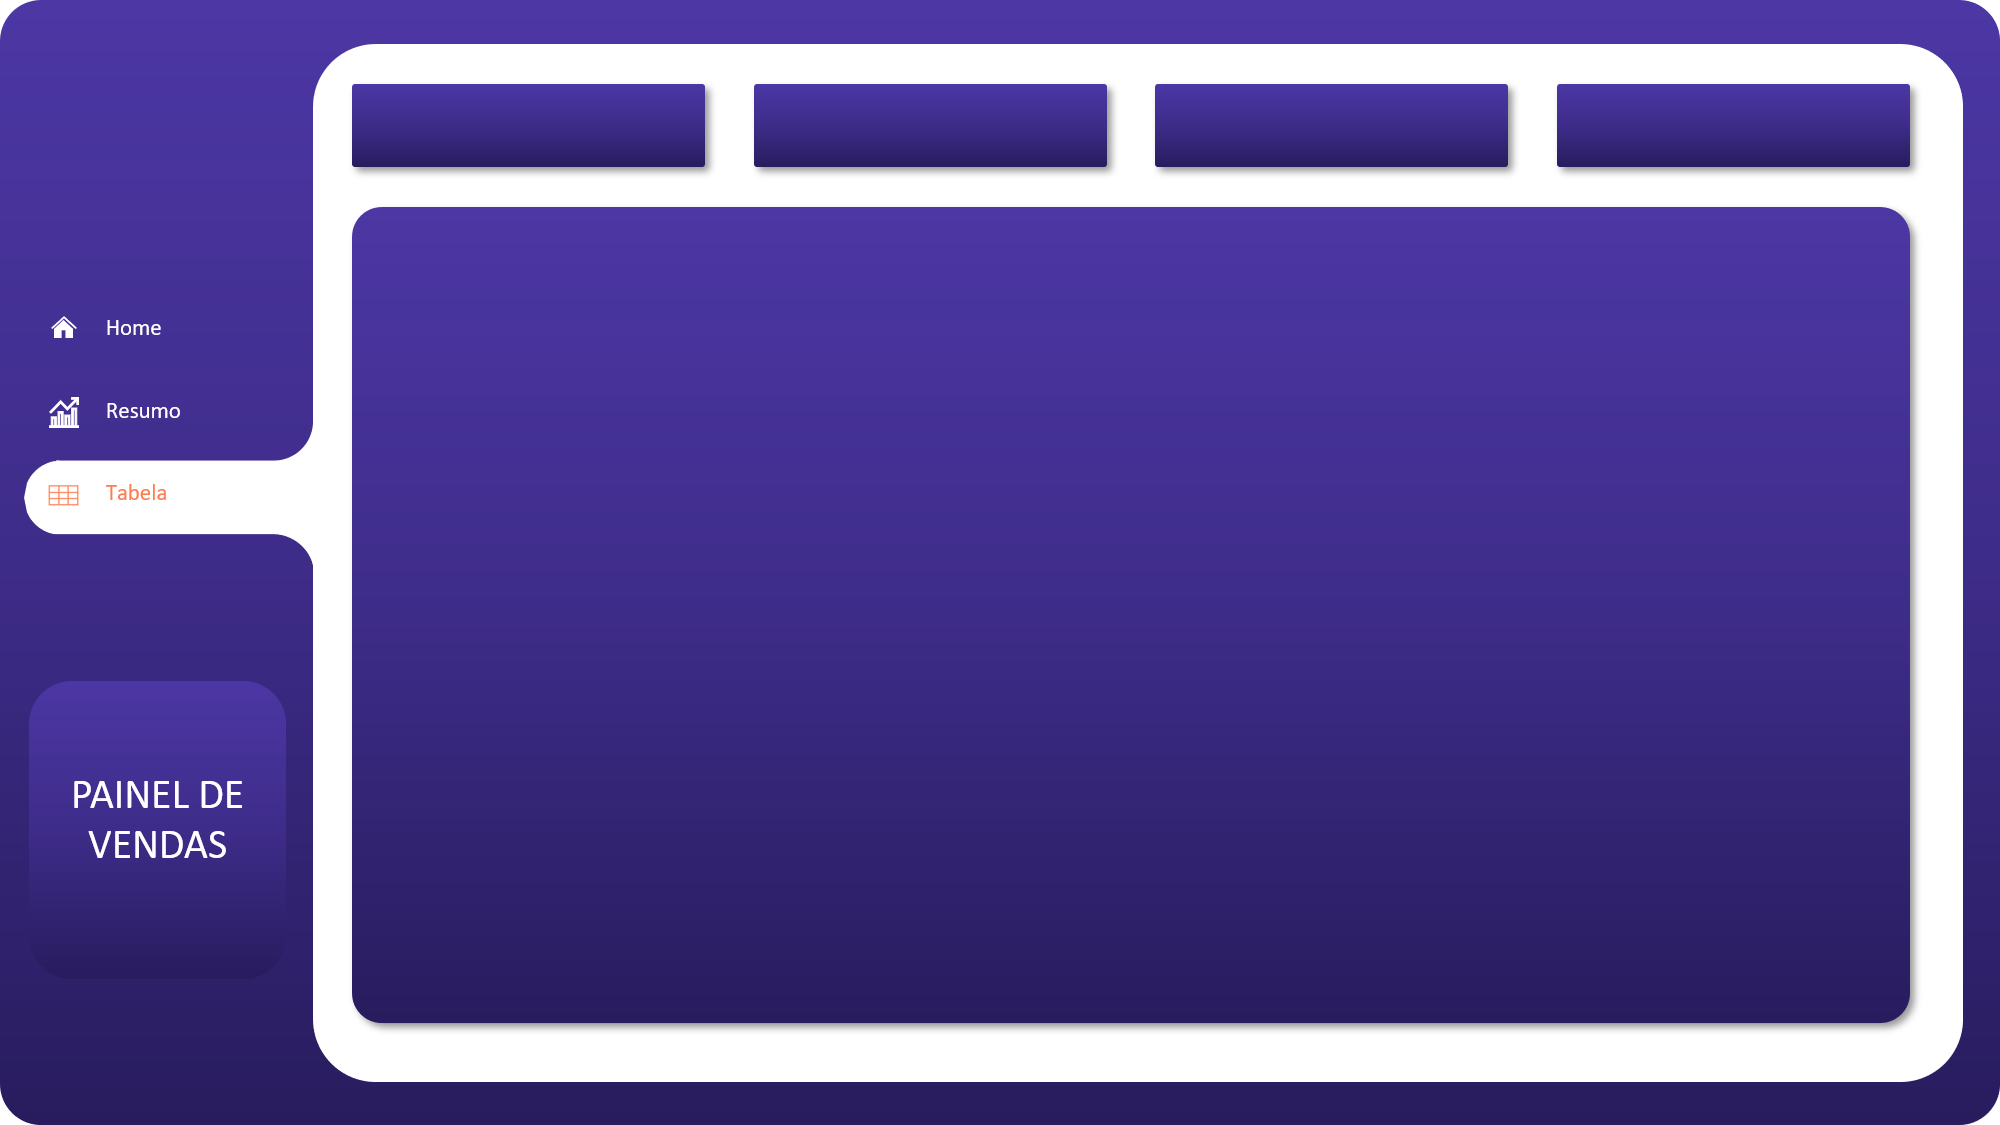

The page's visual inventory and layout, read from the dashboard file:
{"tool":"powerbi","page":{"name":"Table","canvas":[1280,720],"ordinal":1},"visuals":[{"type":"slicer","fields":{"Values":["TB_VENDEDOR.VENDEDOR"]},"box":[483.4,31.1,224.7,53.5],"z":0},{"type":"slicer","fields":{"Values":["TB_CLIENTE.CLIENTE"]},"box":[225.7,31.1,225.7,53.5],"z":1},{"type":"slicer","fields":{"Values":["TB_PRODUTO.PRODUTO"]},"box":[737.3,31.1,229.5,53.5],"z":2},{"type":"slicer","fields":{"Values":["TB_VENDAS.DATA_VENDA.Variation.Hierarquia de datas.Mês"]},"box":[997,31.1,225.7,53.5],"z":3},{"type":"tableEx","fields":{"Values":["TB_VENDAS.DATA_VENDA","TB_CLIENTE.CLIENTE","TB_PRODUTO.PRODUTO","TB_VENDEDOR.VENDEDOR","Sum(TB_VENDAS.QUANTIDADE)","Sum(TB_VENDAS.Valor)","Sum(TB_VENDAS.Total)"]},"box":[238.3,140.1,974.6,502.9],"z":4},{"type":"actionButton","box":[20.4,243.2,114.8,39.9],"z":5}]}

Visuals, with their boxes in screenshot pixels (x1, y1, x2, y2), scaled from the page's 1280x720 canvas onto the 2000x1125 screenshot:
slicer - TB_VENDEDOR.VENDEDOR: (x1=755, y1=49, x2=1106, y2=132)
slicer - TB_CLIENTE.CLIENTE: (x1=353, y1=49, x2=705, y2=132)
slicer - TB_PRODUTO.PRODUTO: (x1=1152, y1=49, x2=1511, y2=132)
slicer - TB_VENDAS.DATA_VENDA.Variation.Hierarquia de datas.Mês: (x1=1558, y1=49, x2=1910, y2=132)
tableEx - TB_VENDAS.DATA_VENDA x TB_CLIENTE.CLIENTE: (x1=372, y1=219, x2=1895, y2=1005)
actionButton: (x1=32, y1=380, x2=211, y2=442)
